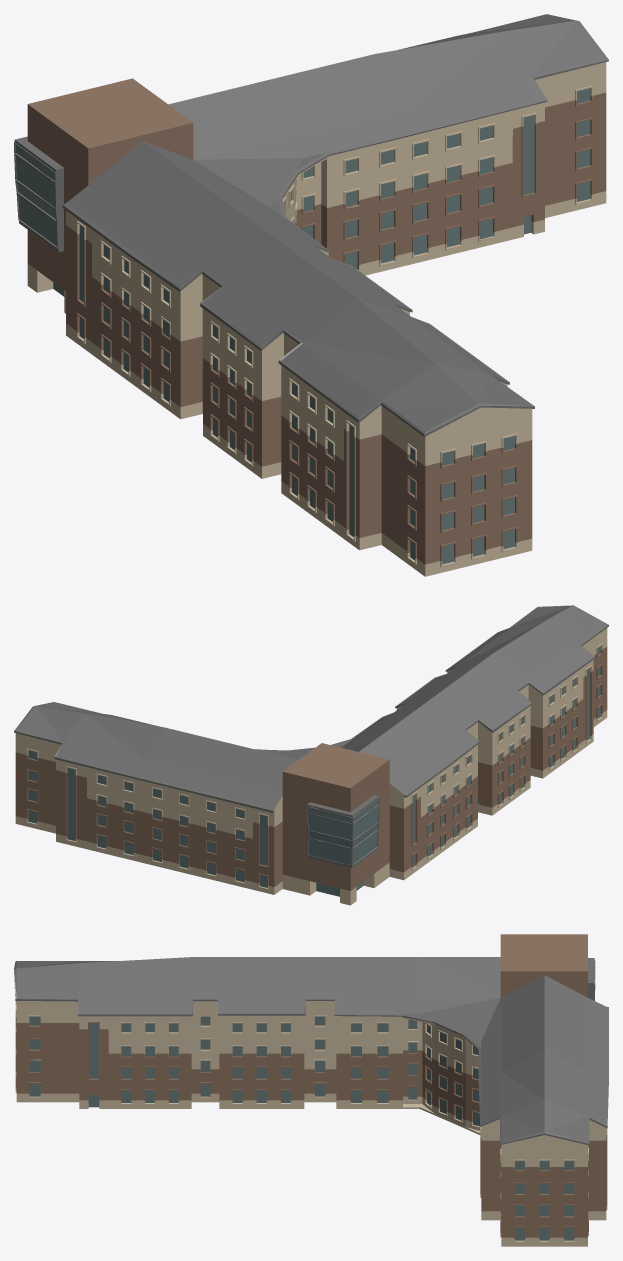
The model's file is Ireland_House_Textured.fbx.
3 views of the same model, one above another, from view 1: azimuth 30°, elevation 25°; view 2: azimuth 150°, elevation 25°; view 3: azimuth 270°, elevation 25° (orthographic). The views are drawn at different scales.
Parts seen in each view (by area): view 1: Ireland_House; view 2: Ireland_House; view 3: Ireland_House.
Part boxes in pixels (x1,y1,x2,y2): Ireland_House: (14,14,608,576); Ireland_House: (14,605,608,905); Ireland_House: (14,934,608,1246).
Size of the model in its own units: 13.08 by 4.15 by 17.14.
